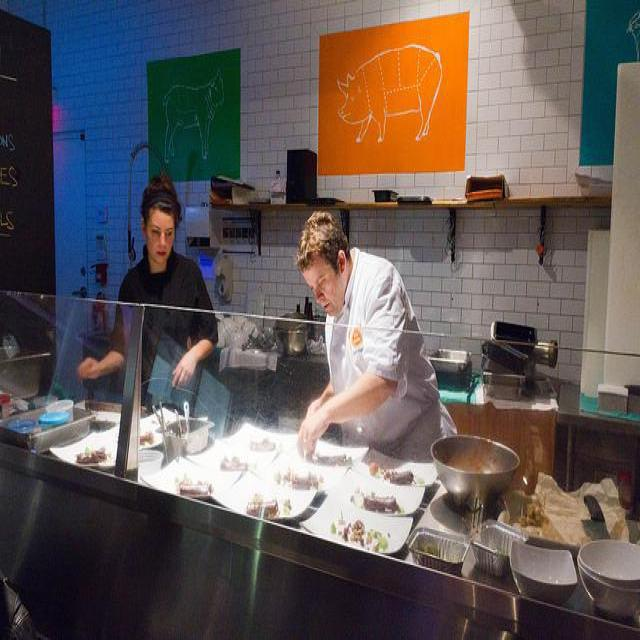Sheep: (164, 70, 225, 164)
